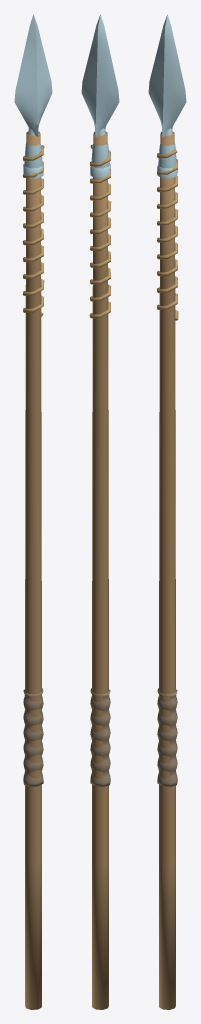
Rendered from stormshaft-javelin.glb.
The picture shows the model from 3 angles, left to right: view 1: azimuth 30°, elevation 25°; view 2: azimuth 150°, elevation 25°; view 3: azimuth 330°, elevation 25°; orthographic projection.
Visible parts, largest first — view 1: stormshaft-javelin; view 2: stormshaft-javelin; view 3: stormshaft-javelin.
Boxes of the visible parts, bbox=[...] form: stormshaft-javelin: bbox=[14, 14, 52, 1009]; stormshaft-javelin: bbox=[81, 14, 119, 1009]; stormshaft-javelin: bbox=[148, 14, 186, 1009].
Size of the model in its own units: 0.1299 by 3.24 by 0.0634.
